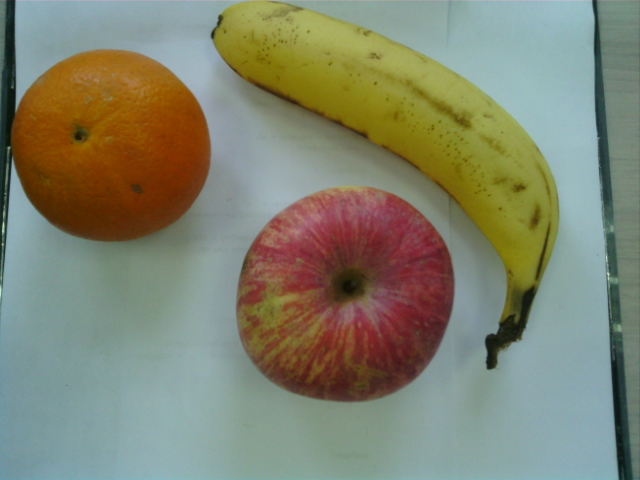normal_apple: (232, 182, 458, 404)
normal_banana: (211, 2, 563, 265)
normal_orange: (10, 48, 212, 243)
